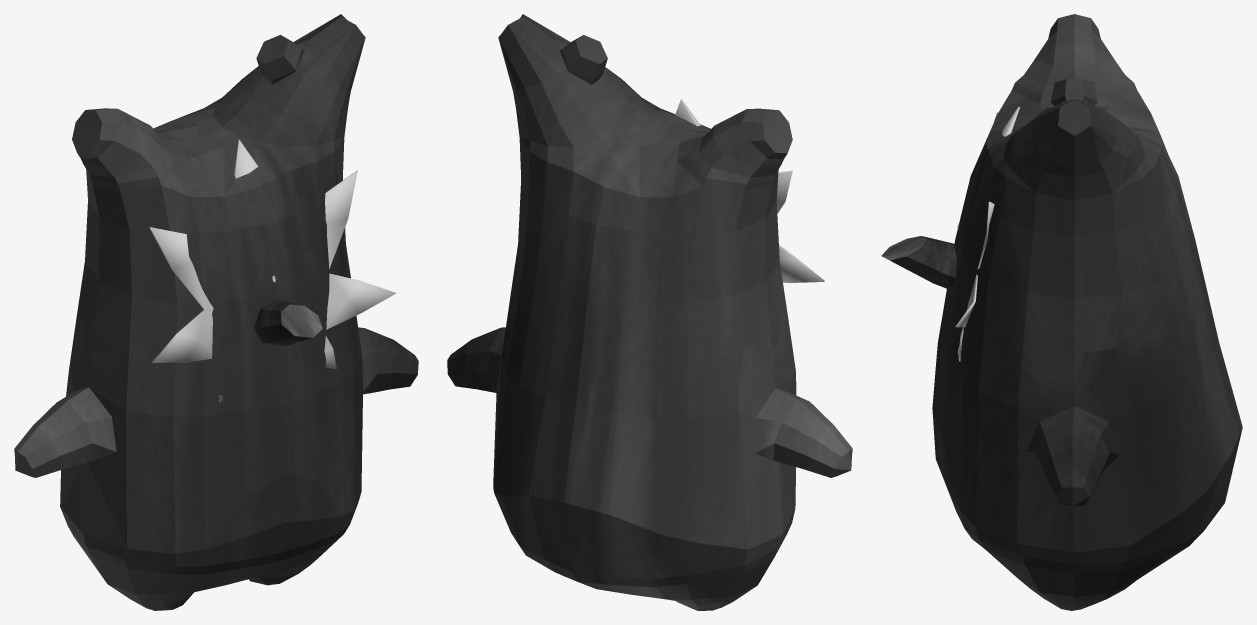
The model's file is frame_0033.obj.
The picture shows the model from 3 angles, left to right: view 1: azimuth 30°, elevation 25°; view 2: azimuth 150°, elevation 25°; view 3: azimuth 270°, elevation 25°; orthographic projection.
Parts seen in each view (by area): view 1: korok, leaf.003_柱体.013, nose.003_柱体.011; view 2: korok, leaf.003_柱体.013; view 3: korok, nose.003_柱体.011, leaf.003_柱体.013.
Part boxes in pixels (bbox=[...]): korok: bbox=[14, 14, 418, 610]; leaf.003_柱体.013: bbox=[149, 139, 396, 402]; nose.003_柱体.011: bbox=[254, 300, 322, 345]; korok: bbox=[447, 14, 852, 610]; leaf.003_柱体.013: bbox=[675, 99, 824, 282]; korok: bbox=[932, 14, 1242, 610]; nose.003_柱体.011: bbox=[881, 236, 956, 290]; leaf.003_柱体.013: bbox=[955, 106, 1019, 361].
Bounding box in the file's own units: 1.73 × 2.25 × 1.36.
